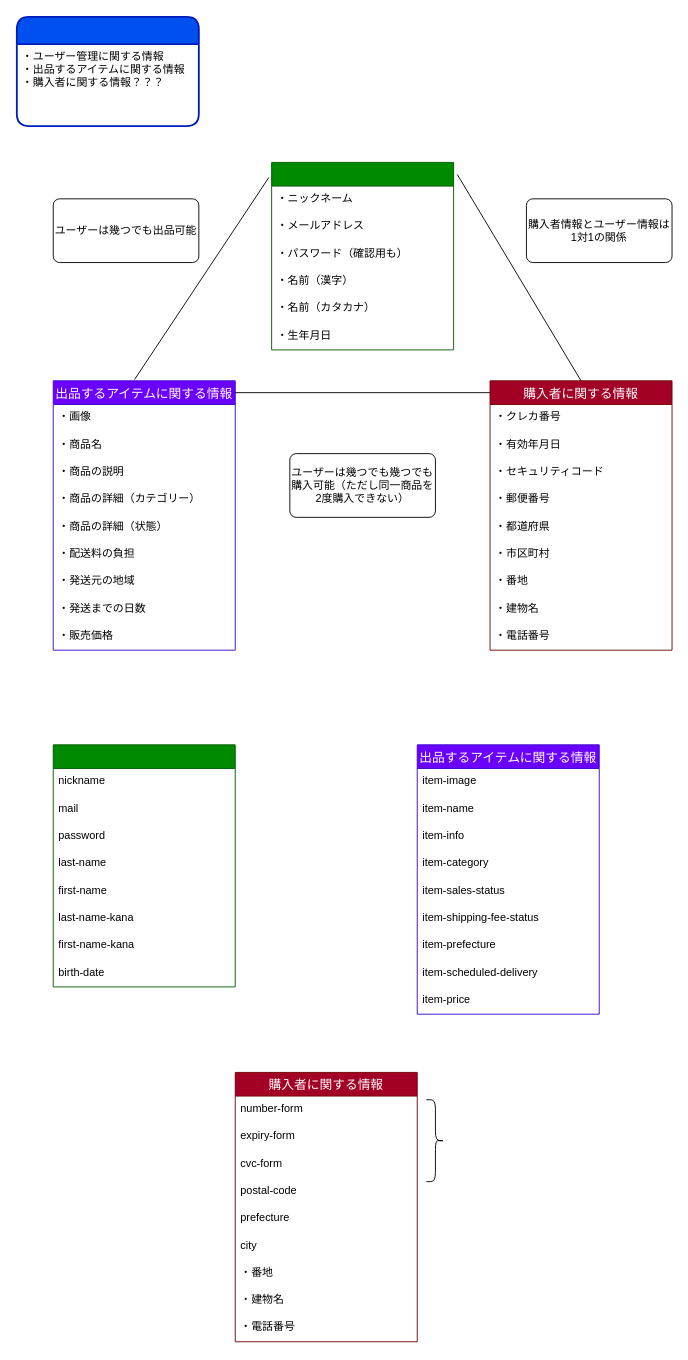
Image size: 688x1360. Some labels were removed from this diagram. Here are the shapes that lost their labels. From the top down, the box of each, then its label:
(15, 15, 199, 126): Entity
(271, 162, 454, 350): ユーザー管理に関する情報
(52, 744, 235, 987): Users Table
